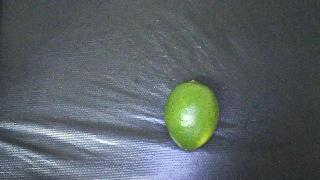LOCAL: (164, 80, 219, 150)
